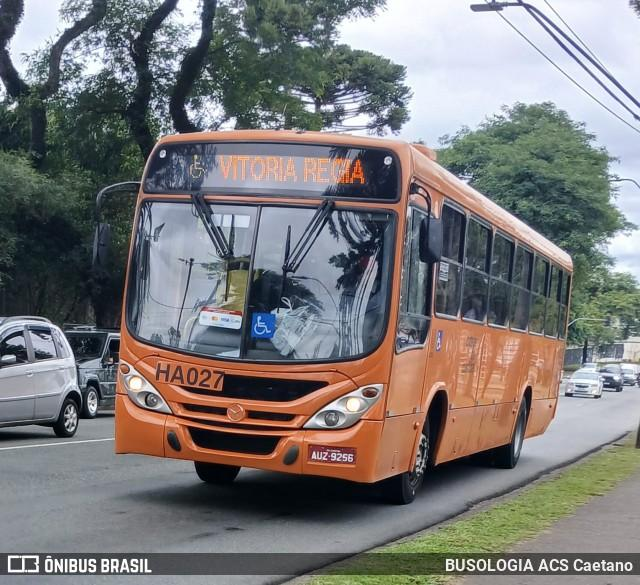VITORIA REGIA: (211, 149, 372, 188)
